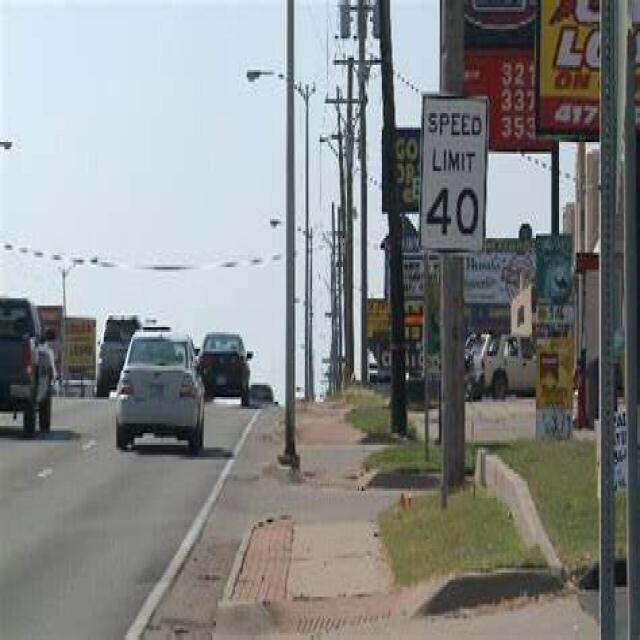speedLimit40: (419, 88, 483, 249)
